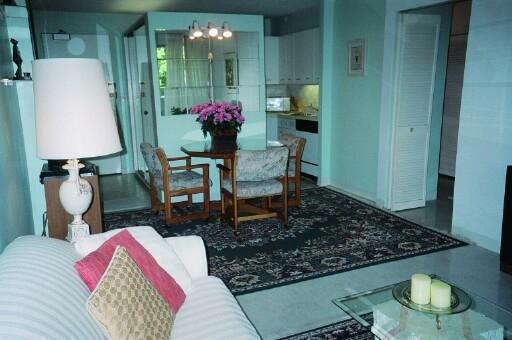Puerta: (399, 8, 432, 216)
